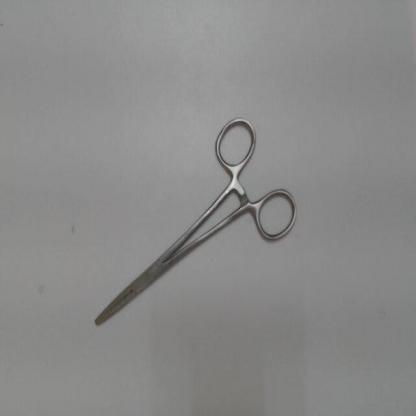Mayo Needle Holder: (85, 107, 308, 340)
